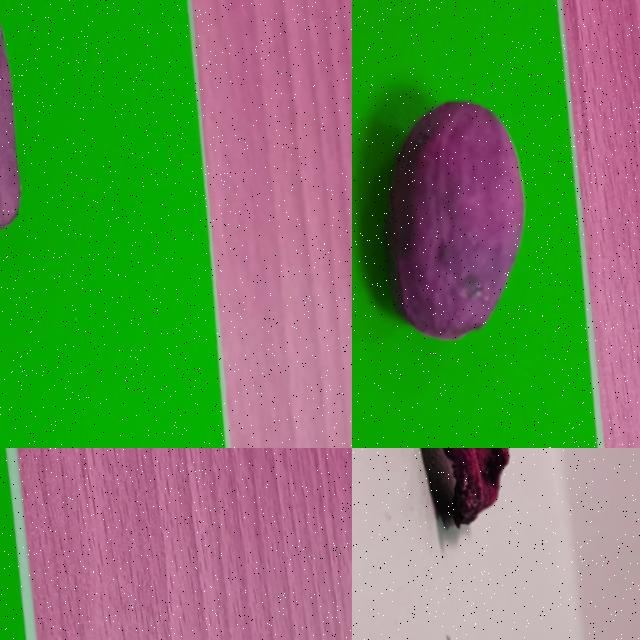Fine_cocoabeans: (352, 0, 598, 437)
Flat_cocoabeans: (352, 448, 587, 630)
